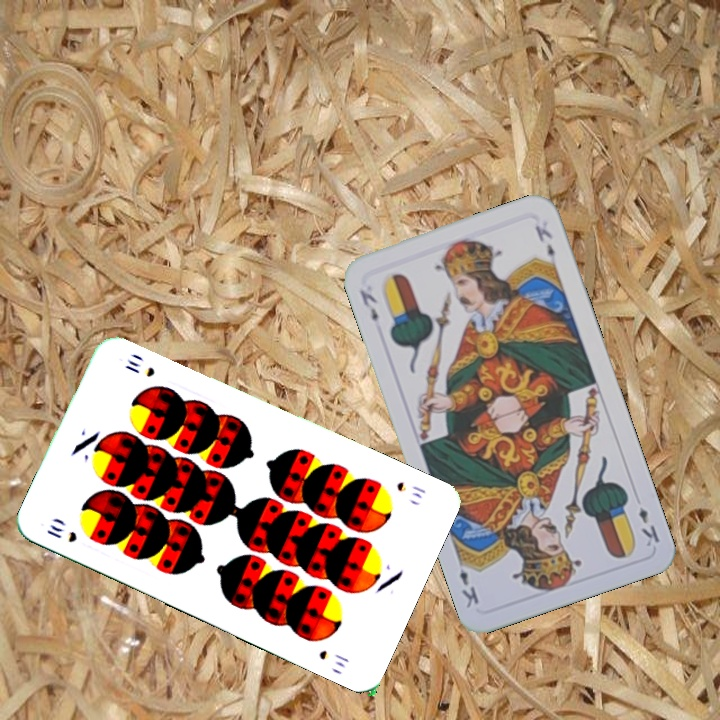EK: (635, 503, 663, 549), (355, 285, 381, 325)
S10: (42, 520, 80, 545), (392, 477, 429, 501)
